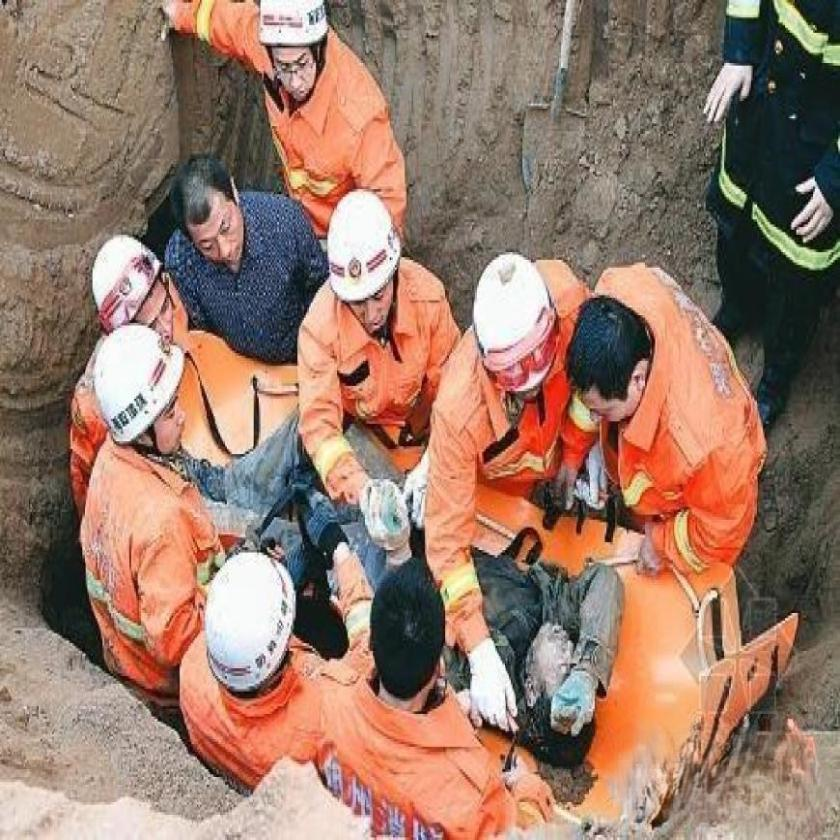Con_casco: (83, 331, 205, 472), (320, 179, 404, 341), (252, 0, 342, 105)
Sin_casco: (564, 286, 660, 427), (169, 150, 252, 288)
